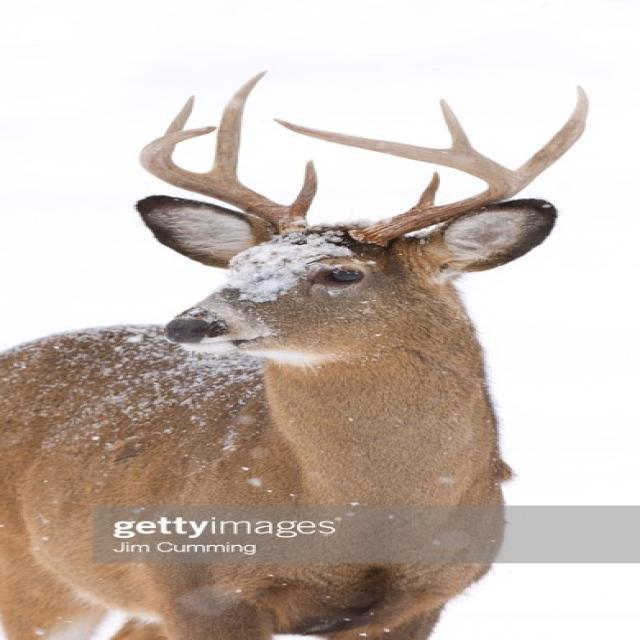L-F: (271, 119, 519, 246)
L-G1: (408, 170, 441, 211)
L-G2: (514, 85, 589, 196)
L-G3: (439, 98, 475, 150)
R-F: (140, 126, 308, 234)
R-G1: (289, 158, 319, 218)
R-G2: (208, 70, 269, 180)
